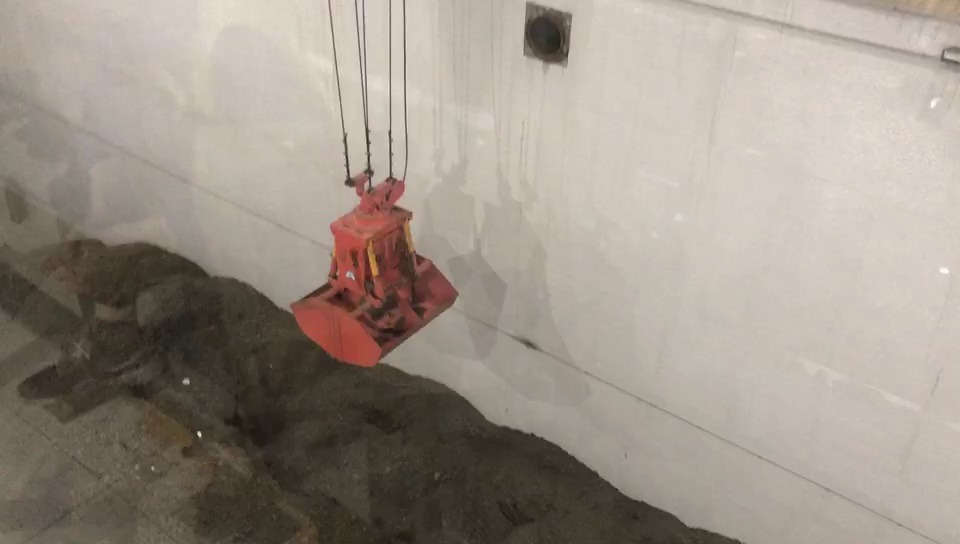grab: (285, 163, 463, 370)
